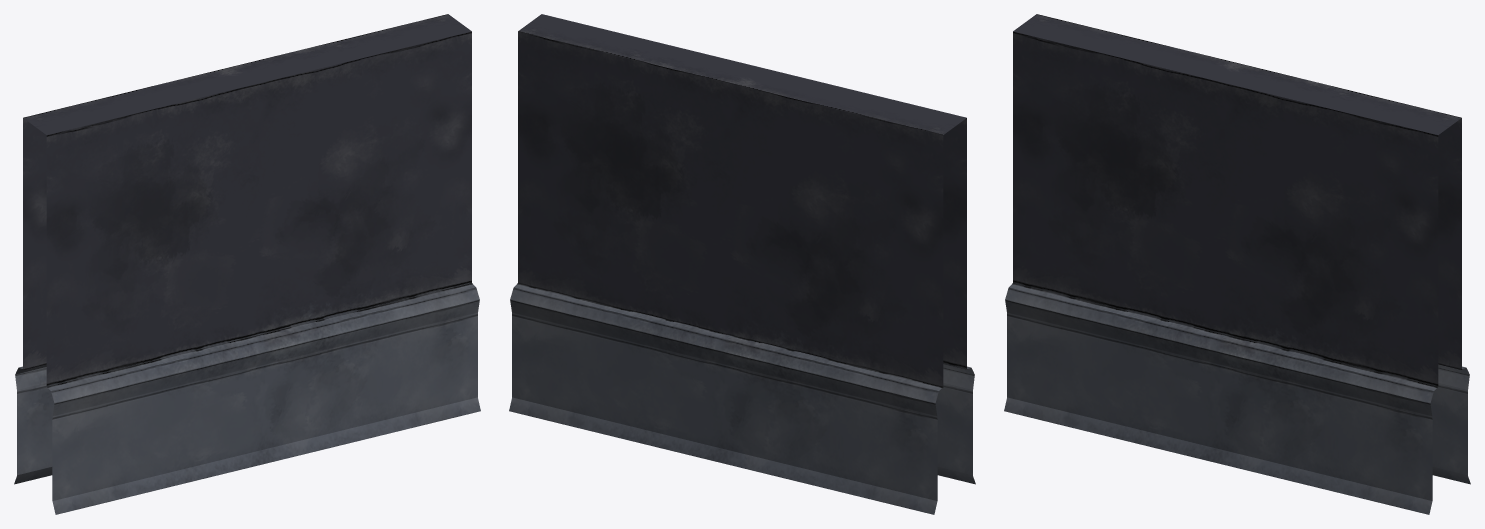
Rendered from childRoom_wall_inner.fbx.
3 renders of one model, left to right at view 1: azimuth 30°, elevation 25°; view 2: azimuth 150°, elevation 25°; view 3: azimuth 330°, elevation 25°, orthographic.
Visible parts, largest first — view 1: childRoom_wall_inner; view 2: childRoom_wall_inner; view 3: childRoom_wall_inner.
Boxes of the visible parts, x1,y1,x2,y2 form: childRoom_wall_inner: [14, 14, 480, 514]; childRoom_wall_inner: [509, 14, 975, 514]; childRoom_wall_inner: [1004, 14, 1470, 514].
Size of the model in its own units: 300 by 252 by 50.85.
